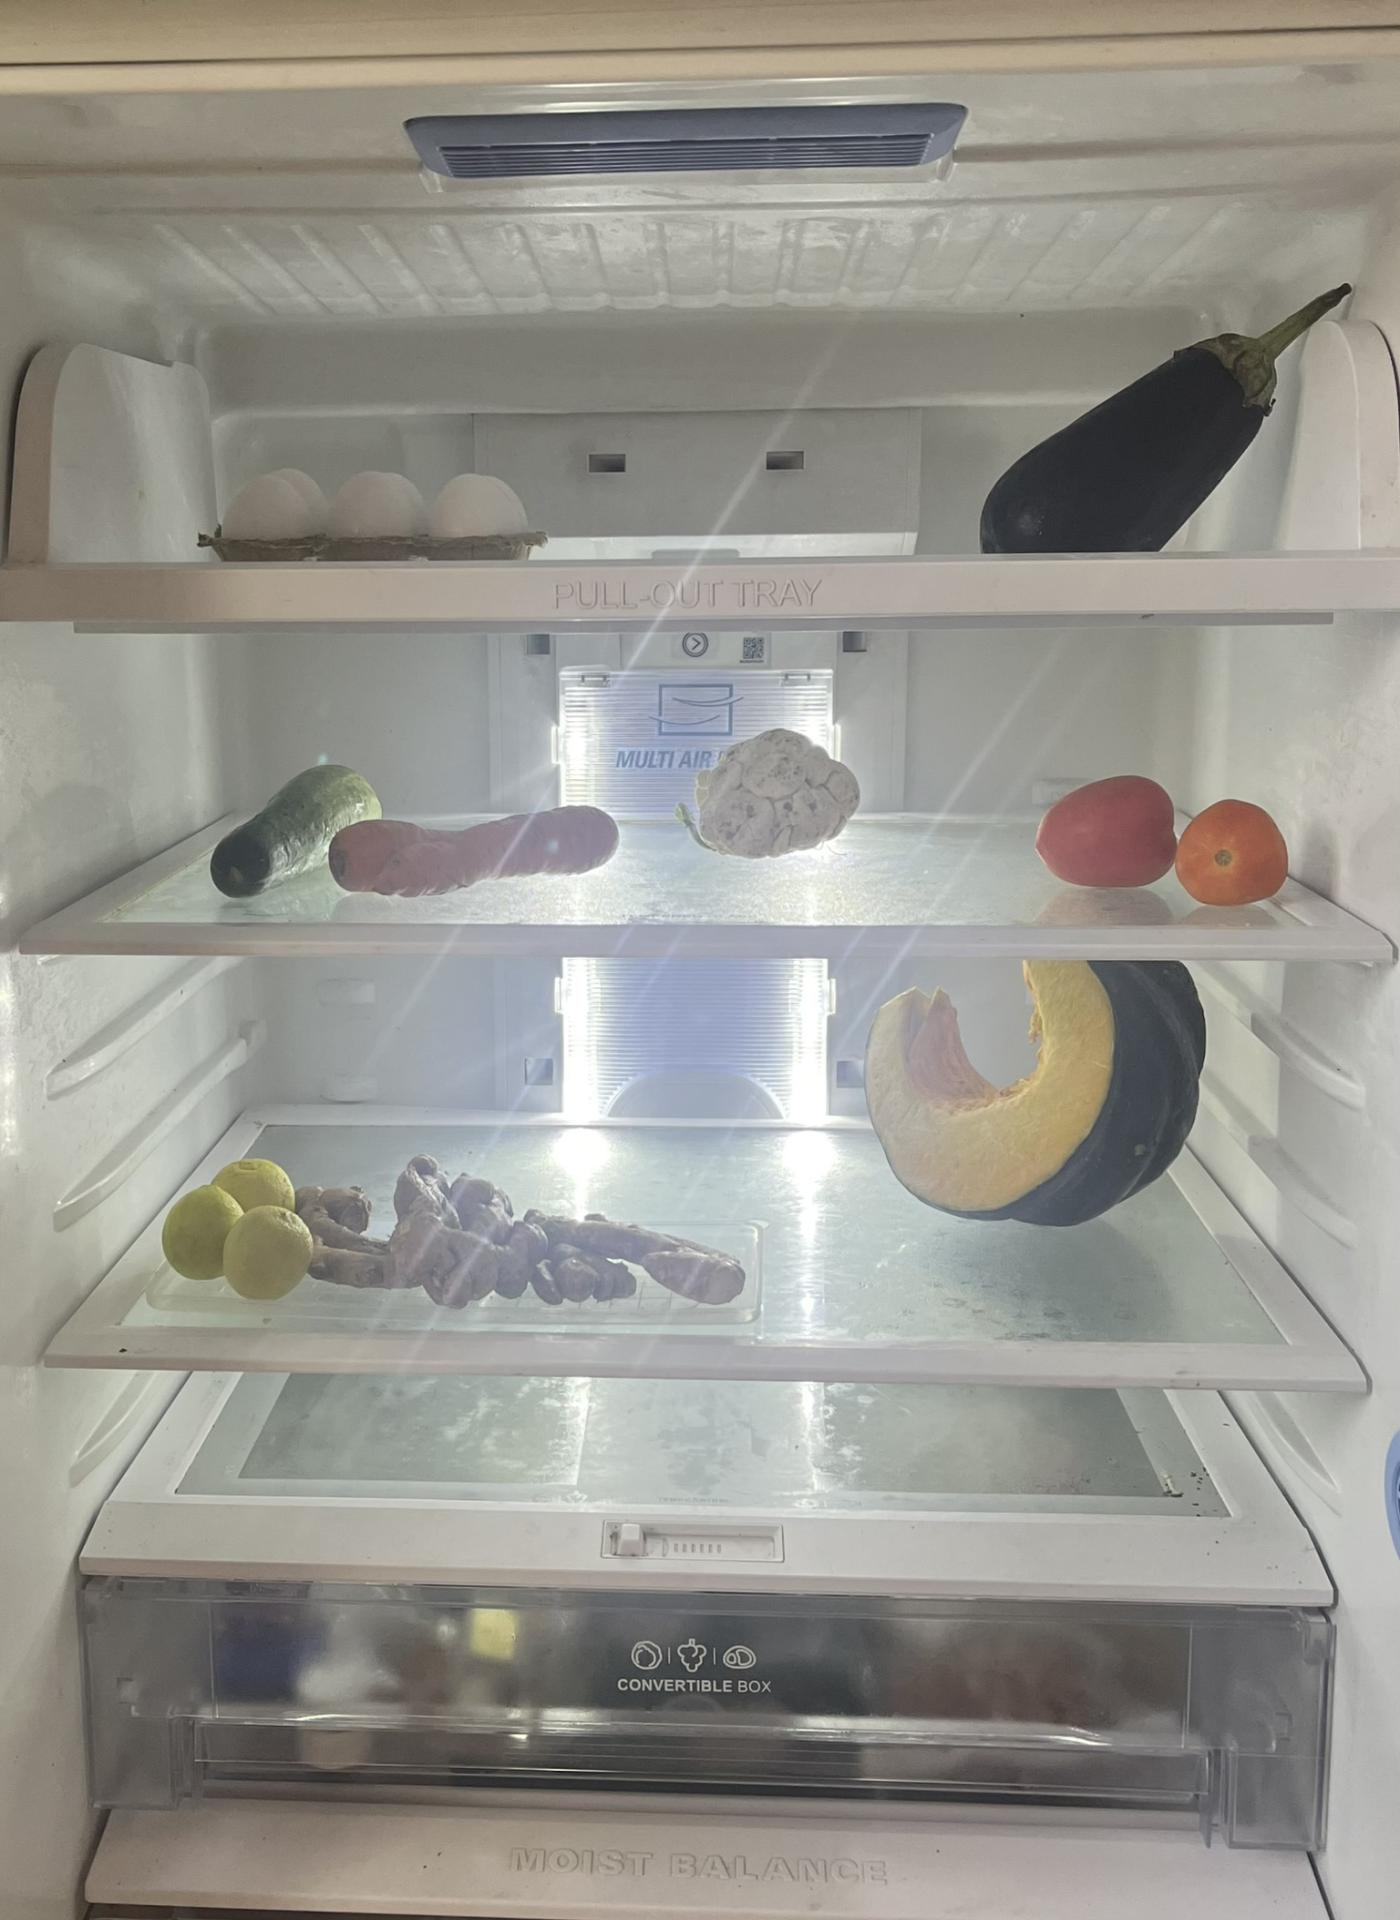brinjal: (960, 258, 1360, 555)
carrots: (325, 803, 622, 902)
cauliflower: (675, 729, 863, 863)
cucumber: (210, 763, 385, 906)
egg: (225, 468, 535, 553)
ginger: (274, 1137, 756, 1316)
lemon: (155, 1155, 319, 1301)
pumpkin: (869, 966, 1212, 1228)
tomato: (1033, 769, 1176, 882), (1173, 790, 1296, 905)
